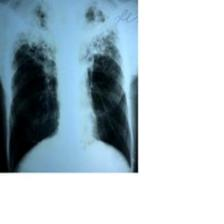tuberculosis: (1, 0, 137, 173)
